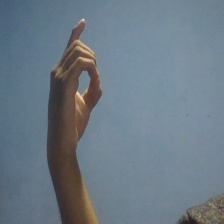D: (43, 17, 105, 150)
